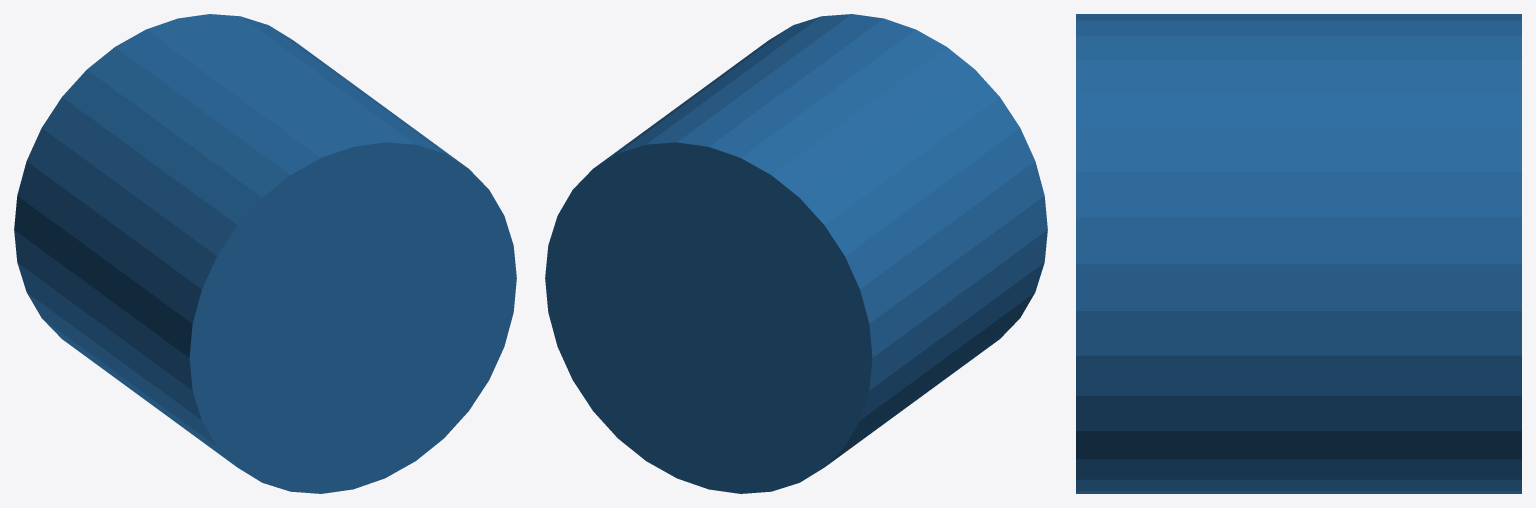
Rendered from arm_link4.OBJ.
The picture shows the model from 3 angles, left to right: view 1: azimuth 30°, elevation 25°; view 2: azimuth 150°, elevation 25°; view 3: azimuth 270°, elevation 25°; orthographic projection. The views are drawn at different scales.
Visible parts, largest first — view 1: arm_link4_Cylinder.003; view 2: arm_link4_Cylinder.003; view 3: arm_link4_Cylinder.003.
Boxes of the visible parts, <box> form: arm_link4_Cylinder.003: <box>14,14,516,493</box>; arm_link4_Cylinder.003: <box>545,14,1047,493</box>; arm_link4_Cylinder.003: <box>1076,14,1521,493</box>.
Bounding box in the file's own units: 0.2494 × 0.2494 × 0.2315.
